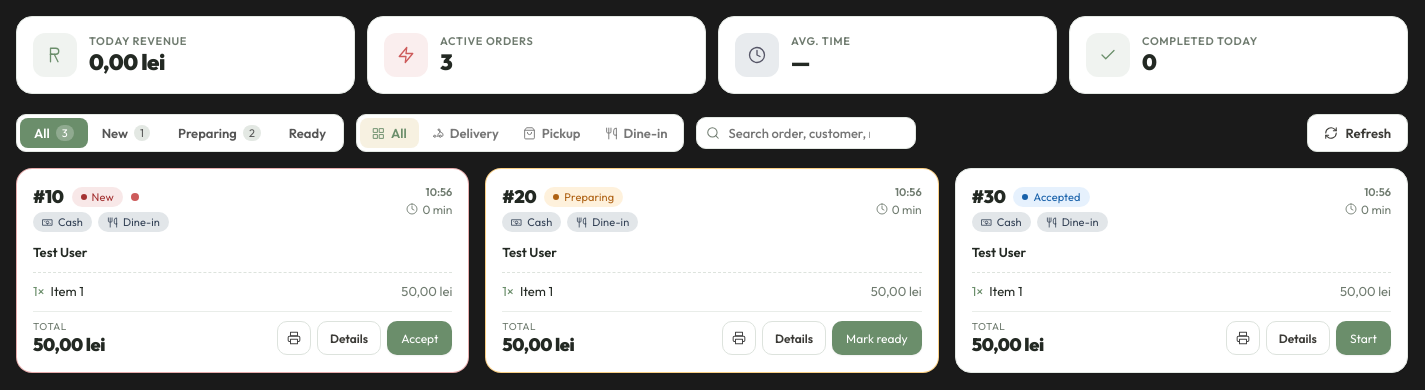
it: OrdersScreen › ORD-01: live orders list with status filtering › filter "new" shows only orders with state === new
// Click the "New" filter button
Click the button "New 1". click: (126, 133)
box: x1=88 y1=118 x2=164 y2=148
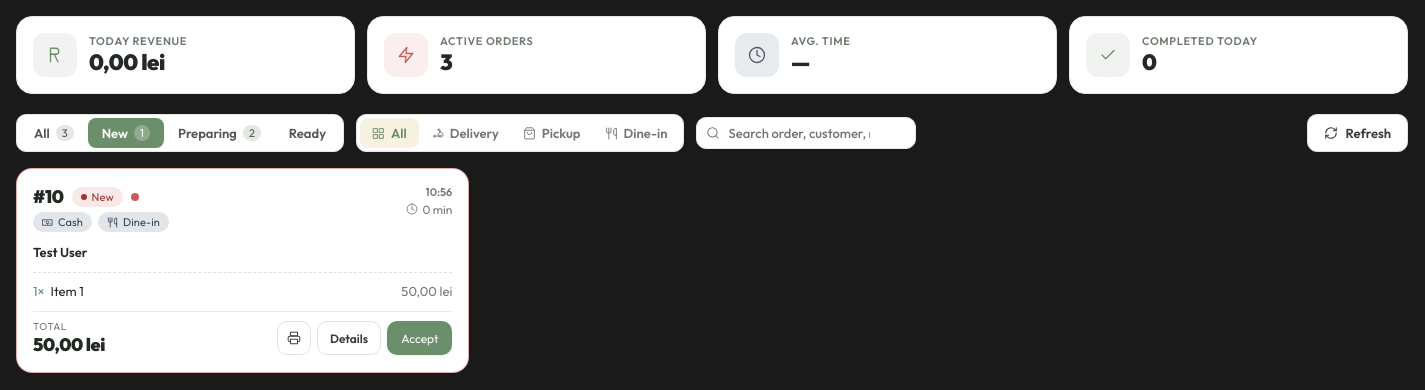
Check: the text "#10" is shown, box x1=33 y1=185 x2=64 y2=208
Check: the text "#20" is gone
Check: the text "#30" is gone
